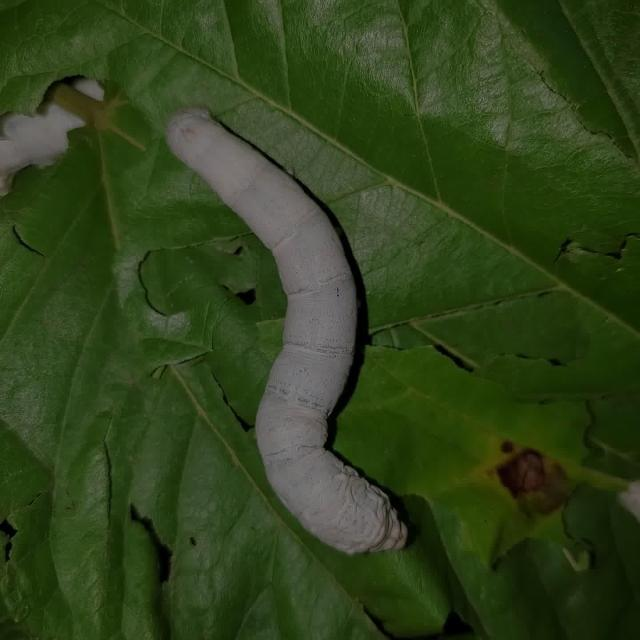Healthy: (158, 100, 413, 564)
